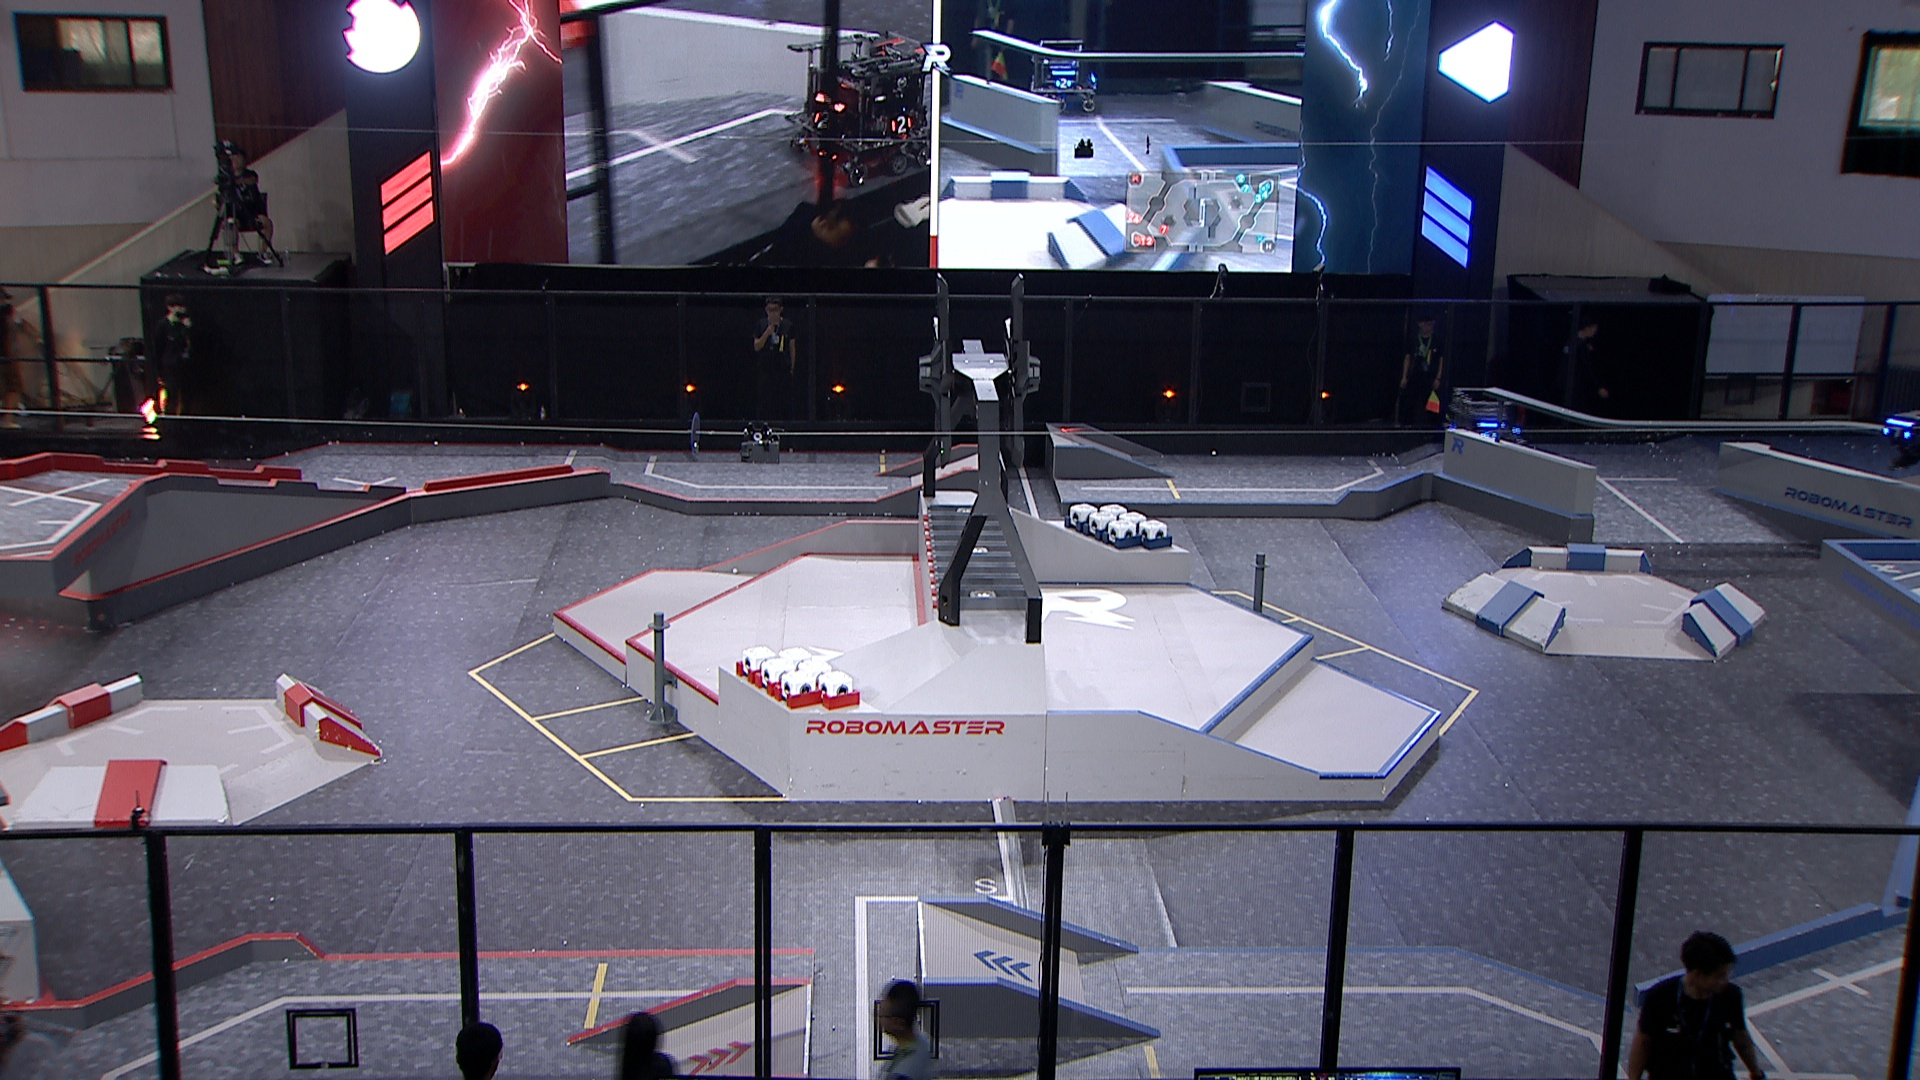armor: (1880, 425, 1912, 440), (1480, 429, 1499, 440)
car: (1443, 386, 1528, 462)
ignore: (785, 24, 936, 182), (1022, 41, 1101, 113)
watcher: (1876, 406, 1920, 469)
